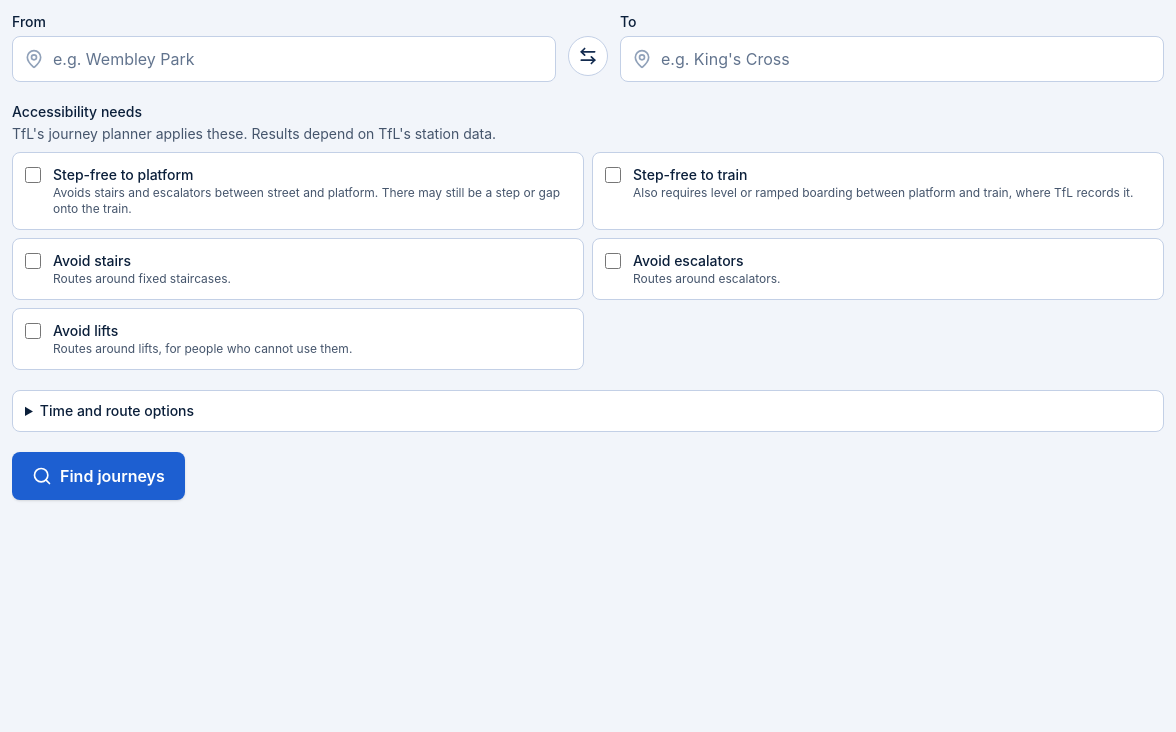
Test: JourneySearchForm › requires both stations before searching
Click the button "Find journeys": (98, 476) [12,452,185,500]
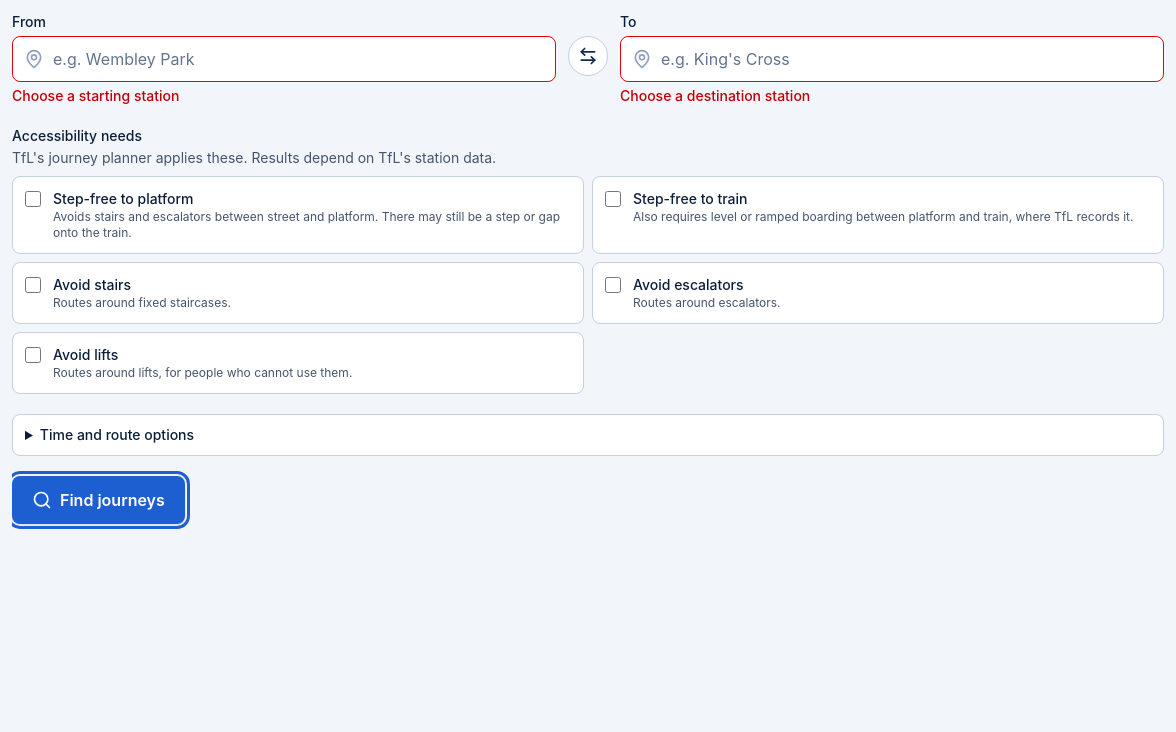
Check: the text "Choose a starting station" is shown, box [12,87,179,104]
Check: the text "Choose a destination station" is shown, box [620,87,810,104]
